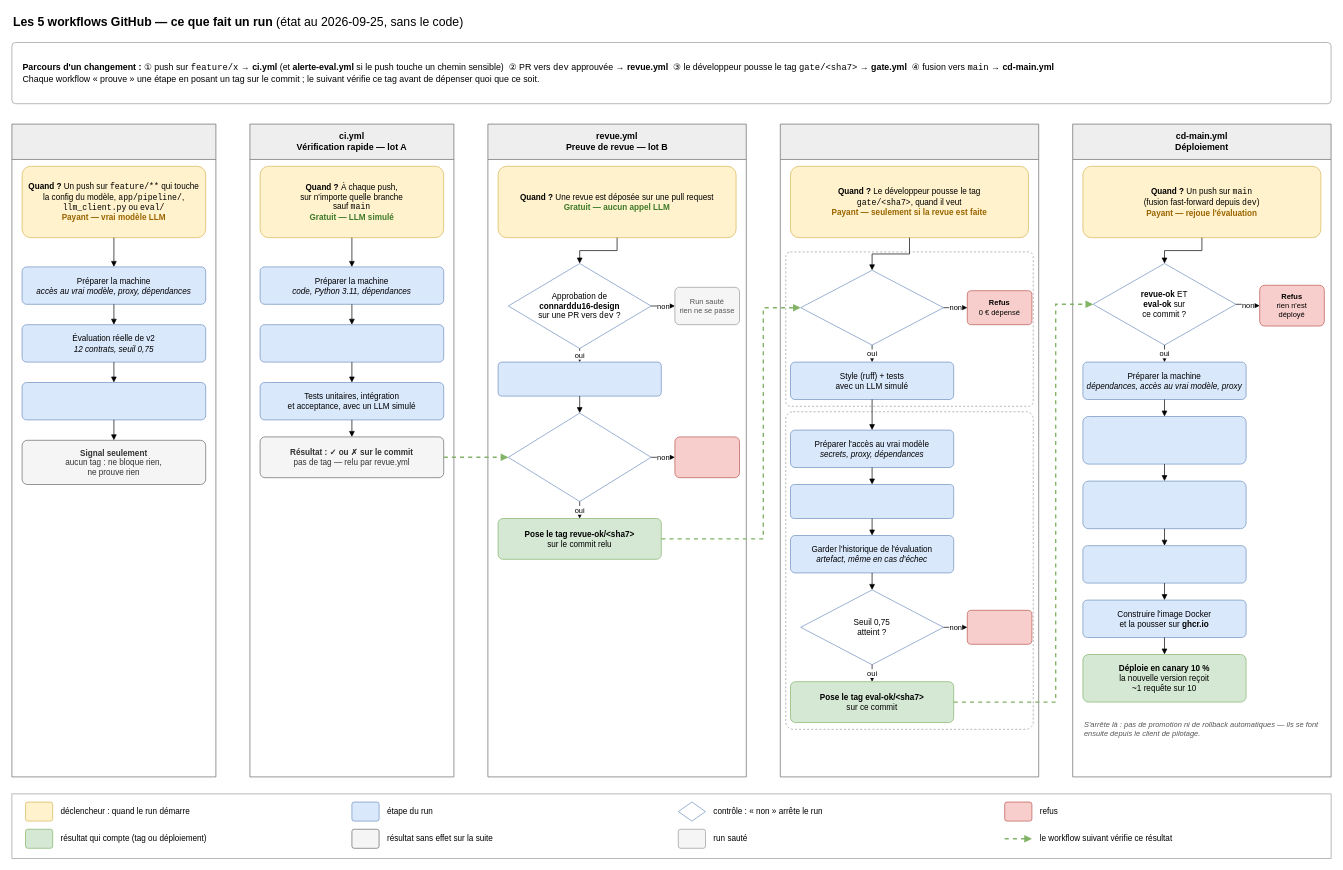
This 1343x870 diagram has some shape labels left out. Each missing label, with the box of its shape:
alerte-eval.yml Alerte d'évaluation — à part: (11, 123, 216, 777)
Calculer la version patch, sauf [minor] / [major] dans le message du commit: (1082, 416, 1246, 464)
ci.yml vert sur ce commit ? attend jusqu'à 10 min: (508, 412, 651, 502)
Committer la version sur main commit chore(registry): (1082, 545, 1246, 583)
gate.yml Gate d'évaluation — lot C: (780, 123, 1039, 777)
Job 1 — tests: (785, 251, 1033, 406)
Job 2 — évaluation, si le job 1 est vert: (785, 411, 1033, 729)
Pas de tag run rouge: (967, 610, 1032, 644)
Publier la version rejoue l'évaluation, enregistre dans ops/registry/: (1082, 480, 1246, 529)
Refus run rouge, pas de tag: (674, 436, 740, 478)
revue-ok sur ce commit ?: (800, 270, 944, 345)
Récupérer le code du commit relu: (497, 361, 661, 396)
Vérifier le style du code ruff: (259, 324, 444, 362)
Écrire la note dans le résumé du run (onglet Summary ): (21, 382, 206, 420)
Évaluation réelle de v2 12 contrats: (790, 484, 954, 518)
